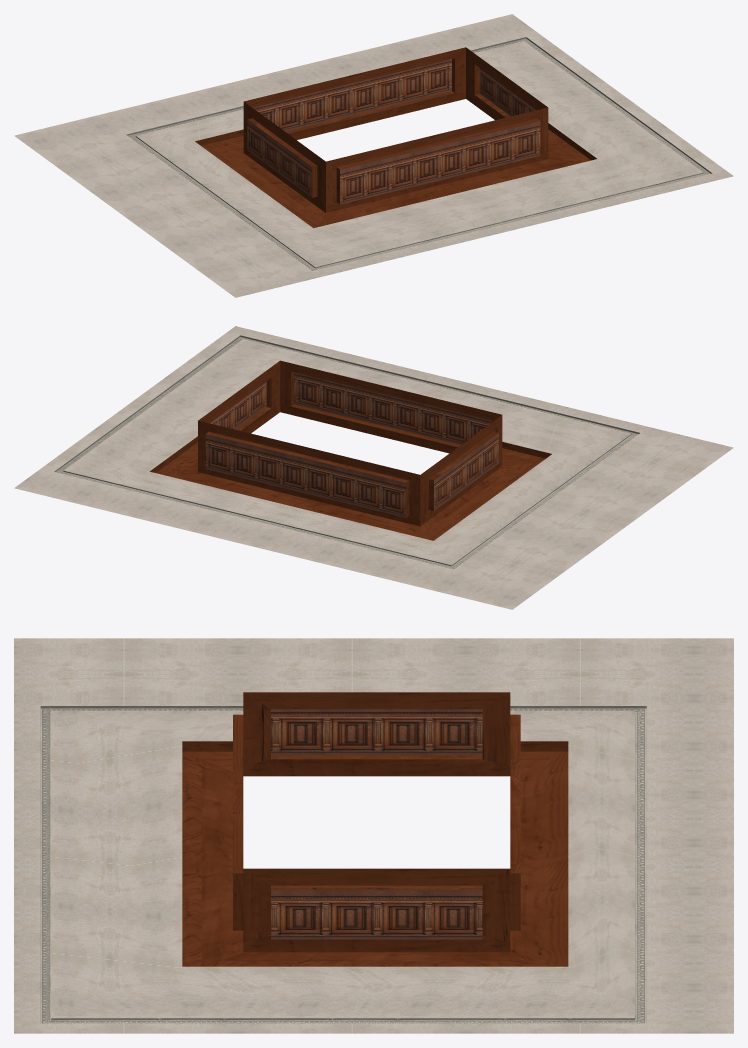
The model's file is Atrium_Ceilingbit.fbx.
3 renders of one model, top to bottom at view 1: azimuth 30°, elevation 25°; view 2: azimuth 150°, elevation 25°; view 3: azimuth 270°, elevation 25°, orthographic. The views are drawn at different scales.
Parts seen in each view (by area): view 1: Plane.001; view 2: Plane.001; view 3: Plane.001.
Part boxes in pixels (bbox=[...]): Plane.001: bbox=[14, 14, 733, 297]; Plane.001: bbox=[14, 326, 733, 609]; Plane.001: bbox=[14, 638, 733, 1033].
Bounding box in the file's own units: 777 × 76.96 × 598.
